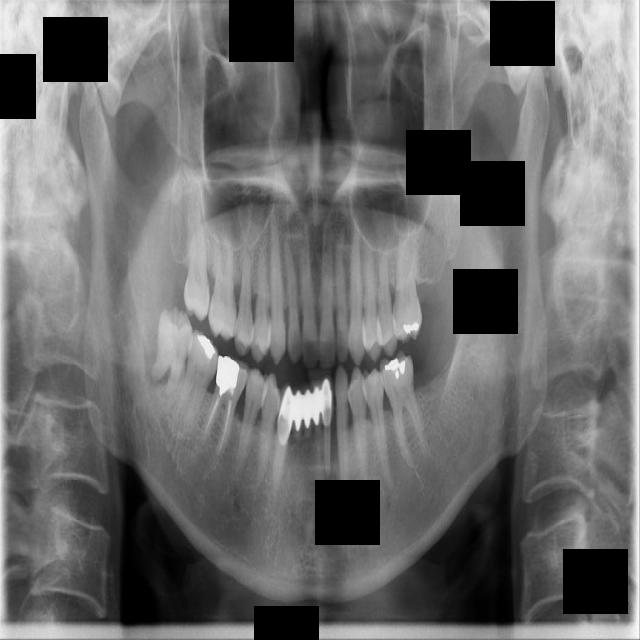52: (373, 348, 422, 399), (183, 330, 224, 382), (214, 354, 252, 396), (392, 298, 421, 343), (279, 386, 294, 442), (292, 387, 305, 440), (320, 377, 334, 425), (302, 384, 314, 436), (312, 382, 323, 429)
73: (196, 383, 243, 456), (628, 620, 634, 628)
Caries: (183, 178, 210, 323)
Implant: (171, 329, 224, 438)
Keystone Dental Implant: (149, 305, 197, 397)
